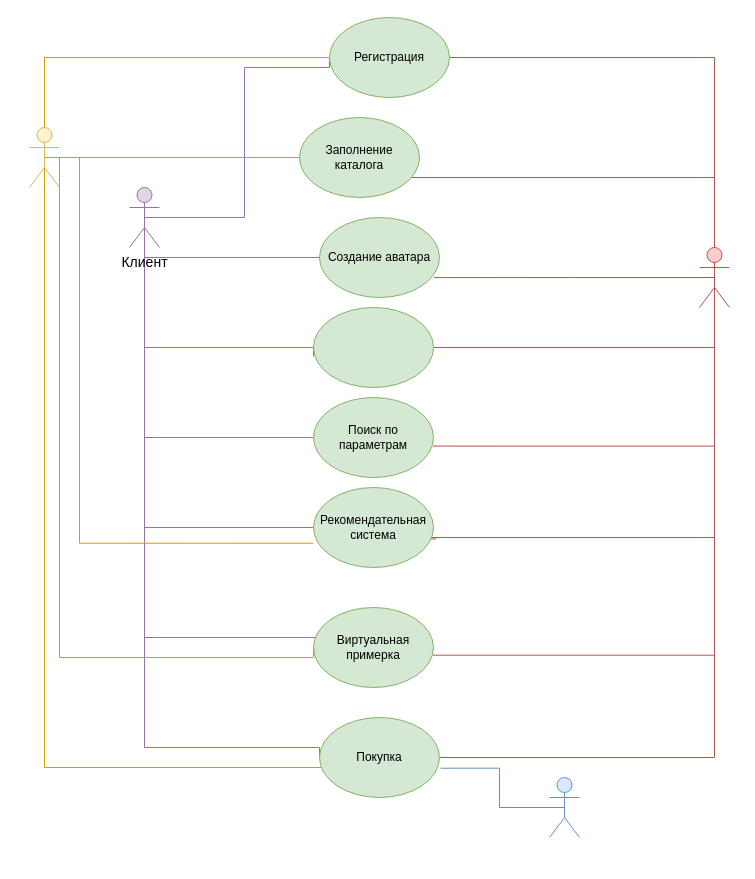
Image size: 755x879. Some labels were removed from this diagram. The box of each missing label's shape, as (x1, y1, x2, y2) in pixels:
Магазин: (28, 126, 60, 188)
НСПК: (548, 776, 580, 838)
Параметризация комнаты: (312, 306, 434, 388)
Сервис: (698, 246, 730, 308)
